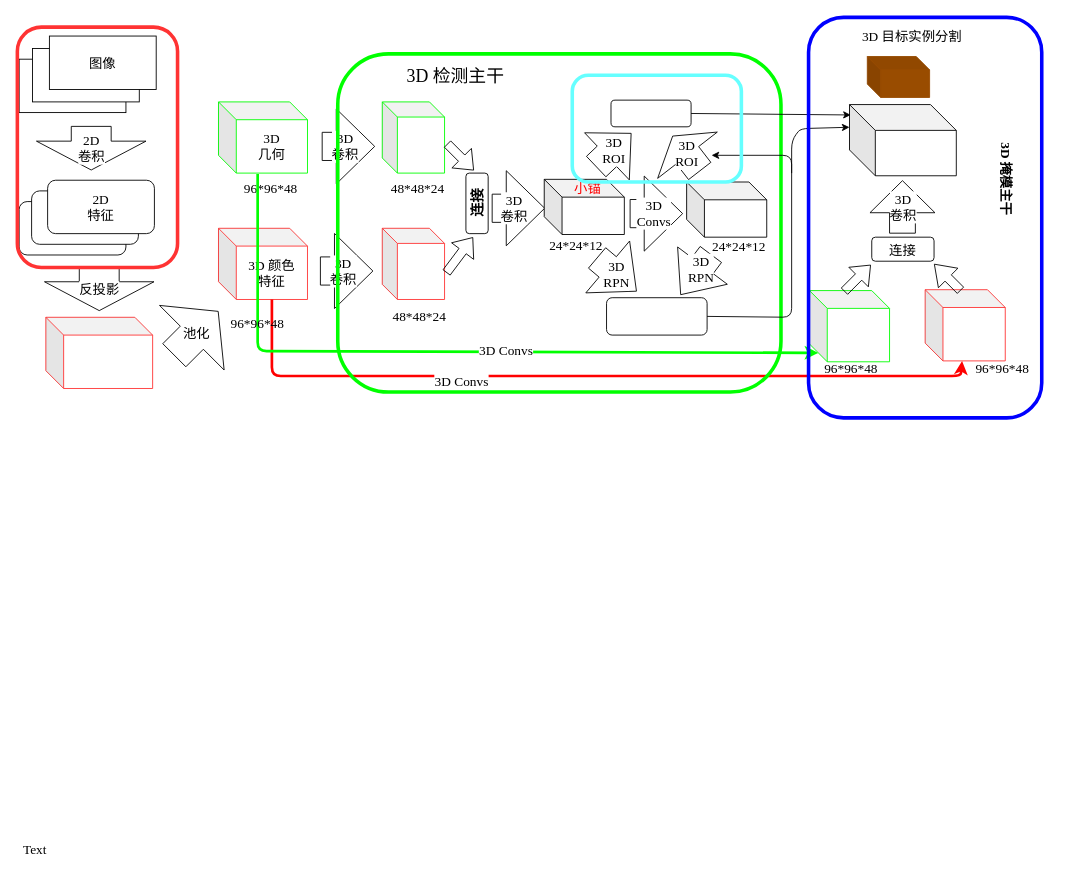
The diagram is 1069 pixels wide and 873 high, and some of its shapes have lost their labels. The shapes that lost their labels are listed below. From the top down, each one's centre as x and y in pixels, then its label:
the point at 650,113: 类别标签
the point at 726,209: 大锚
the point at 656,316: 检测框位置
the point at 99,352: 3D颜色特征
